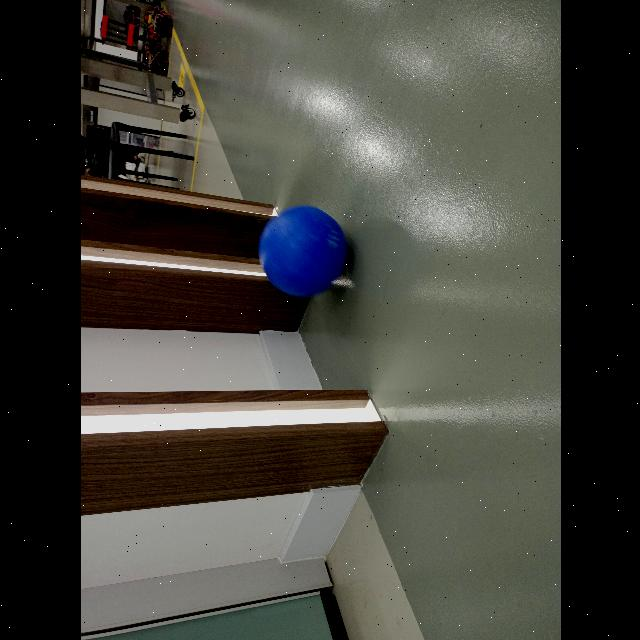B: (253, 206, 353, 300)
